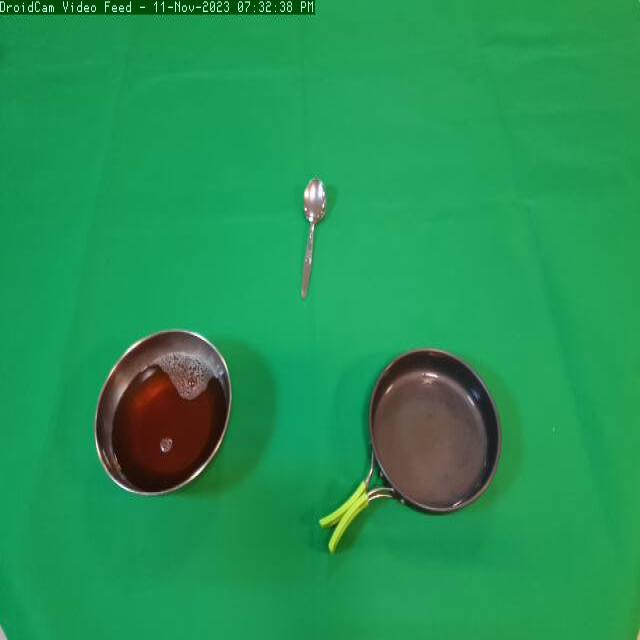fullbowl: (92, 327, 238, 500)
pan: (317, 339, 515, 563)
spoon: (291, 171, 336, 304)
